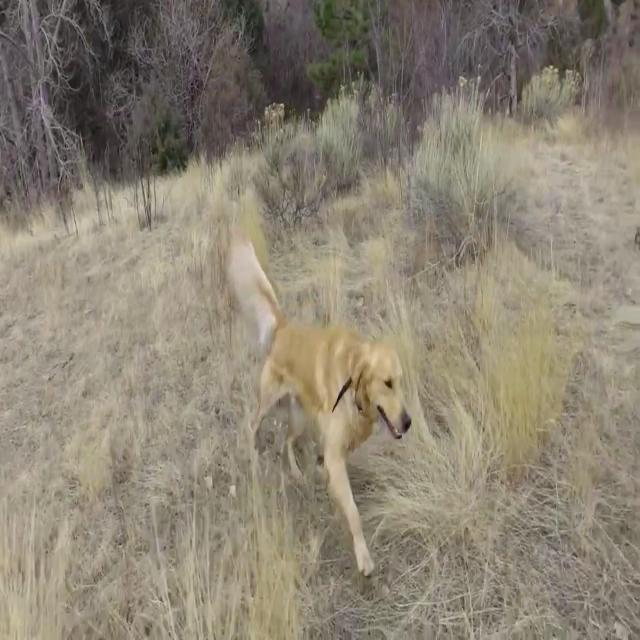Dog: (225, 228, 412, 579)
